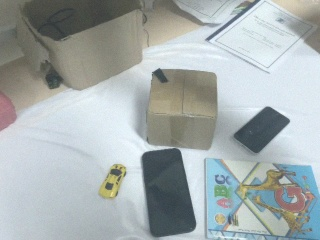book: (179, 154, 320, 239)
box: (15, 1, 148, 92), (143, 67, 217, 151)
phone: (141, 147, 198, 238), (232, 105, 291, 155)
toy_car: (98, 163, 127, 199)
